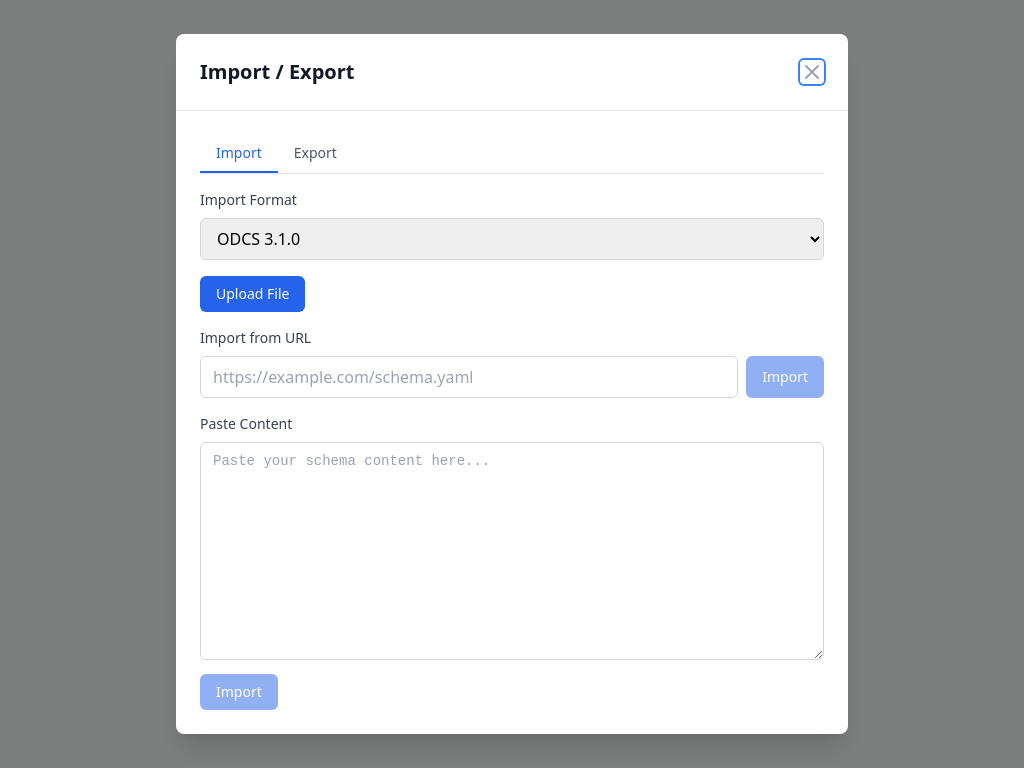
Test: ImportExportDialog › should handle export to different formats
This screenshot has width=1024, height=768.
Click the button "Export": (315, 154) [278,135,353,173]
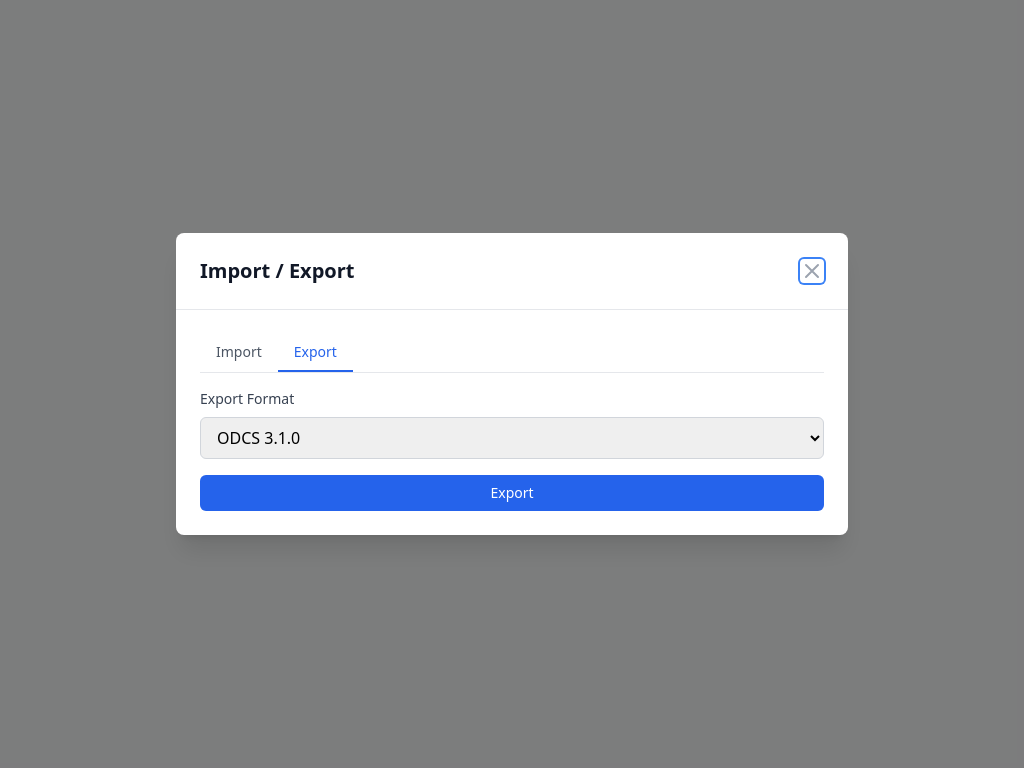
Check: the text "Export Format" is shown, box [200,389,294,408]
Check: the button "Export" below "Export Format" is shown, box [200,475,824,511]
